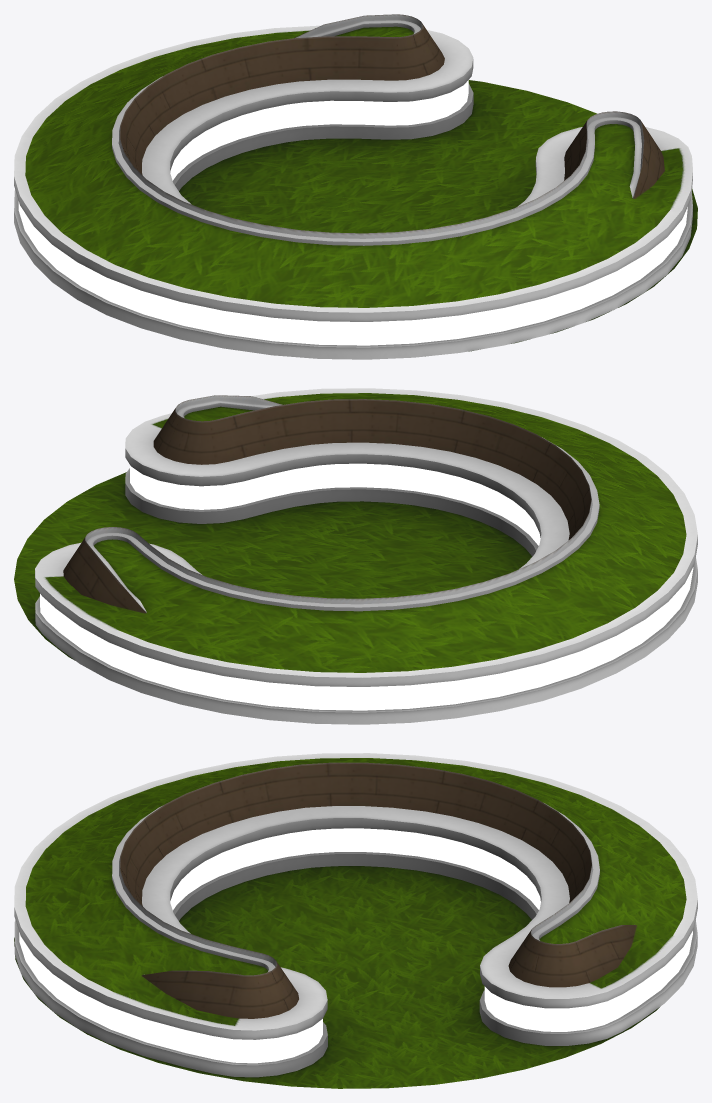
File: Bancos_Auditorio_Menor.fbx
3 renders of one model, top to bottom at view 1: azimuth 30°, elevation 25°; view 2: azimuth 150°, elevation 25°; view 3: azimuth 270°, elevation 25°, orthographic.
Parts seen in each view (by area): view 1: Bancos Auditório Individual; view 2: Bancos Auditório Individual; view 3: Bancos Auditório Individual.
Part boxes in pixels (x1=…): Bancos Auditório Individual: x1=14, y1=14, x2=697, y2=359; Bancos Auditório Individual: x1=14, y1=388, x2=697, y2=724; Bancos Auditório Individual: x1=14, y1=753, x2=697, y2=1088.
Size of the model in its own units: 969 by 129 by 970.
